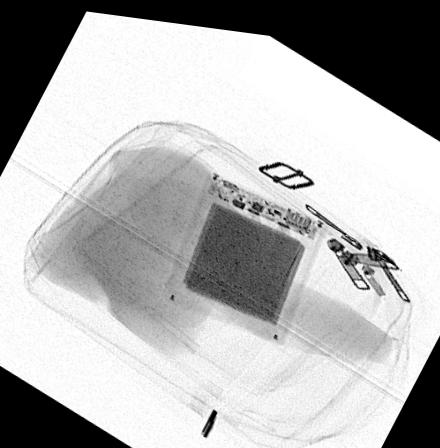Powerbank: (161, 161, 324, 337)
